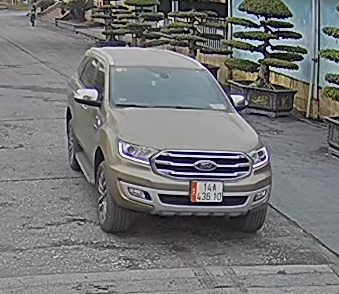vehicle plate: (189, 178, 224, 203)
